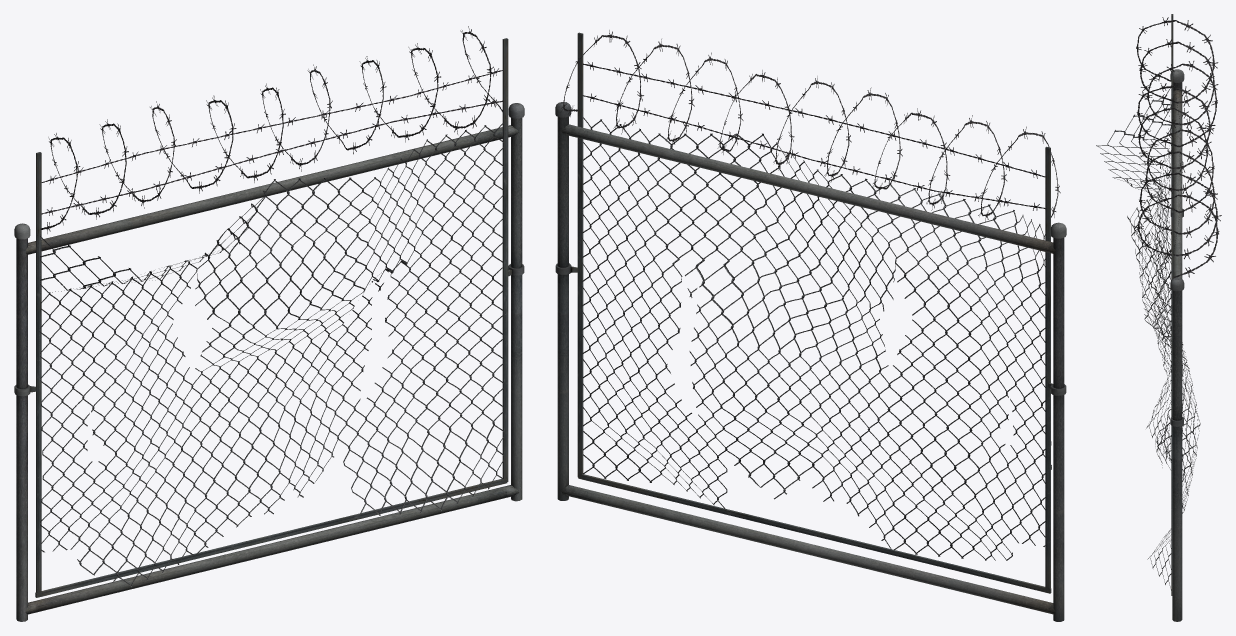
File: Fence Stage 2.fbx
3 renders of one model, left to right at view 1: azimuth 30°, elevation 25°; view 2: azimuth 150°, elevation 25°; view 3: azimuth 270°, elevation 25°, orthographic. The views are drawn at different scales.
Parts seen in each view (by area): view 1: chainlink_barbwire-1_LOD0; view 2: chainlink_barbwire-1_LOD0; view 3: chainlink_barbwire-1_LOD0.
Boxes of the visible parts, bbox=[...] form: chainlink_barbwire-1_LOD0: bbox=[14, 26, 524, 621]; chainlink_barbwire-1_LOD0: bbox=[555, 30, 1066, 621]; chainlink_barbwire-1_LOD0: bbox=[1096, 14, 1221, 621].
Size of the model in its own units: 284 by 254 by 70.36.
